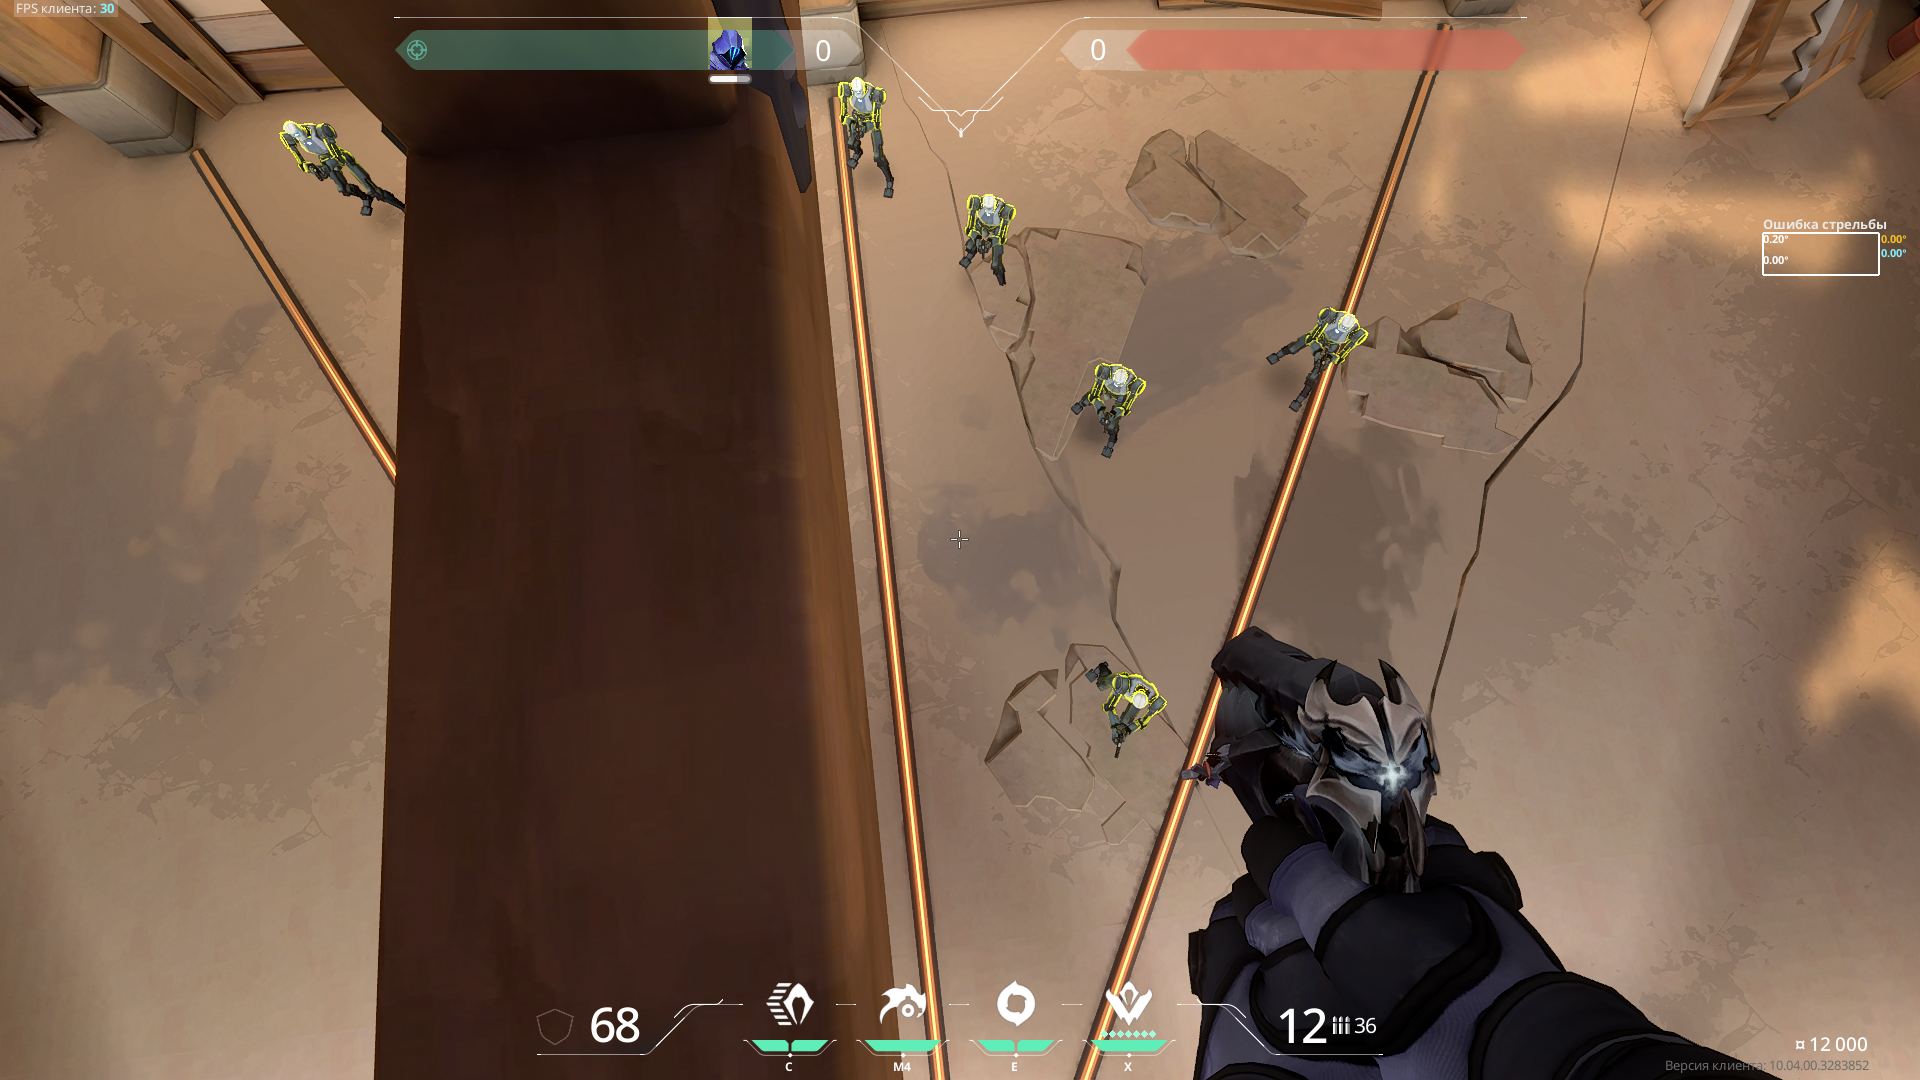head: (283, 121, 307, 141), (1338, 313, 1356, 332), (851, 77, 865, 98), (1132, 692, 1148, 709), (983, 194, 995, 213), (1113, 369, 1127, 387)
